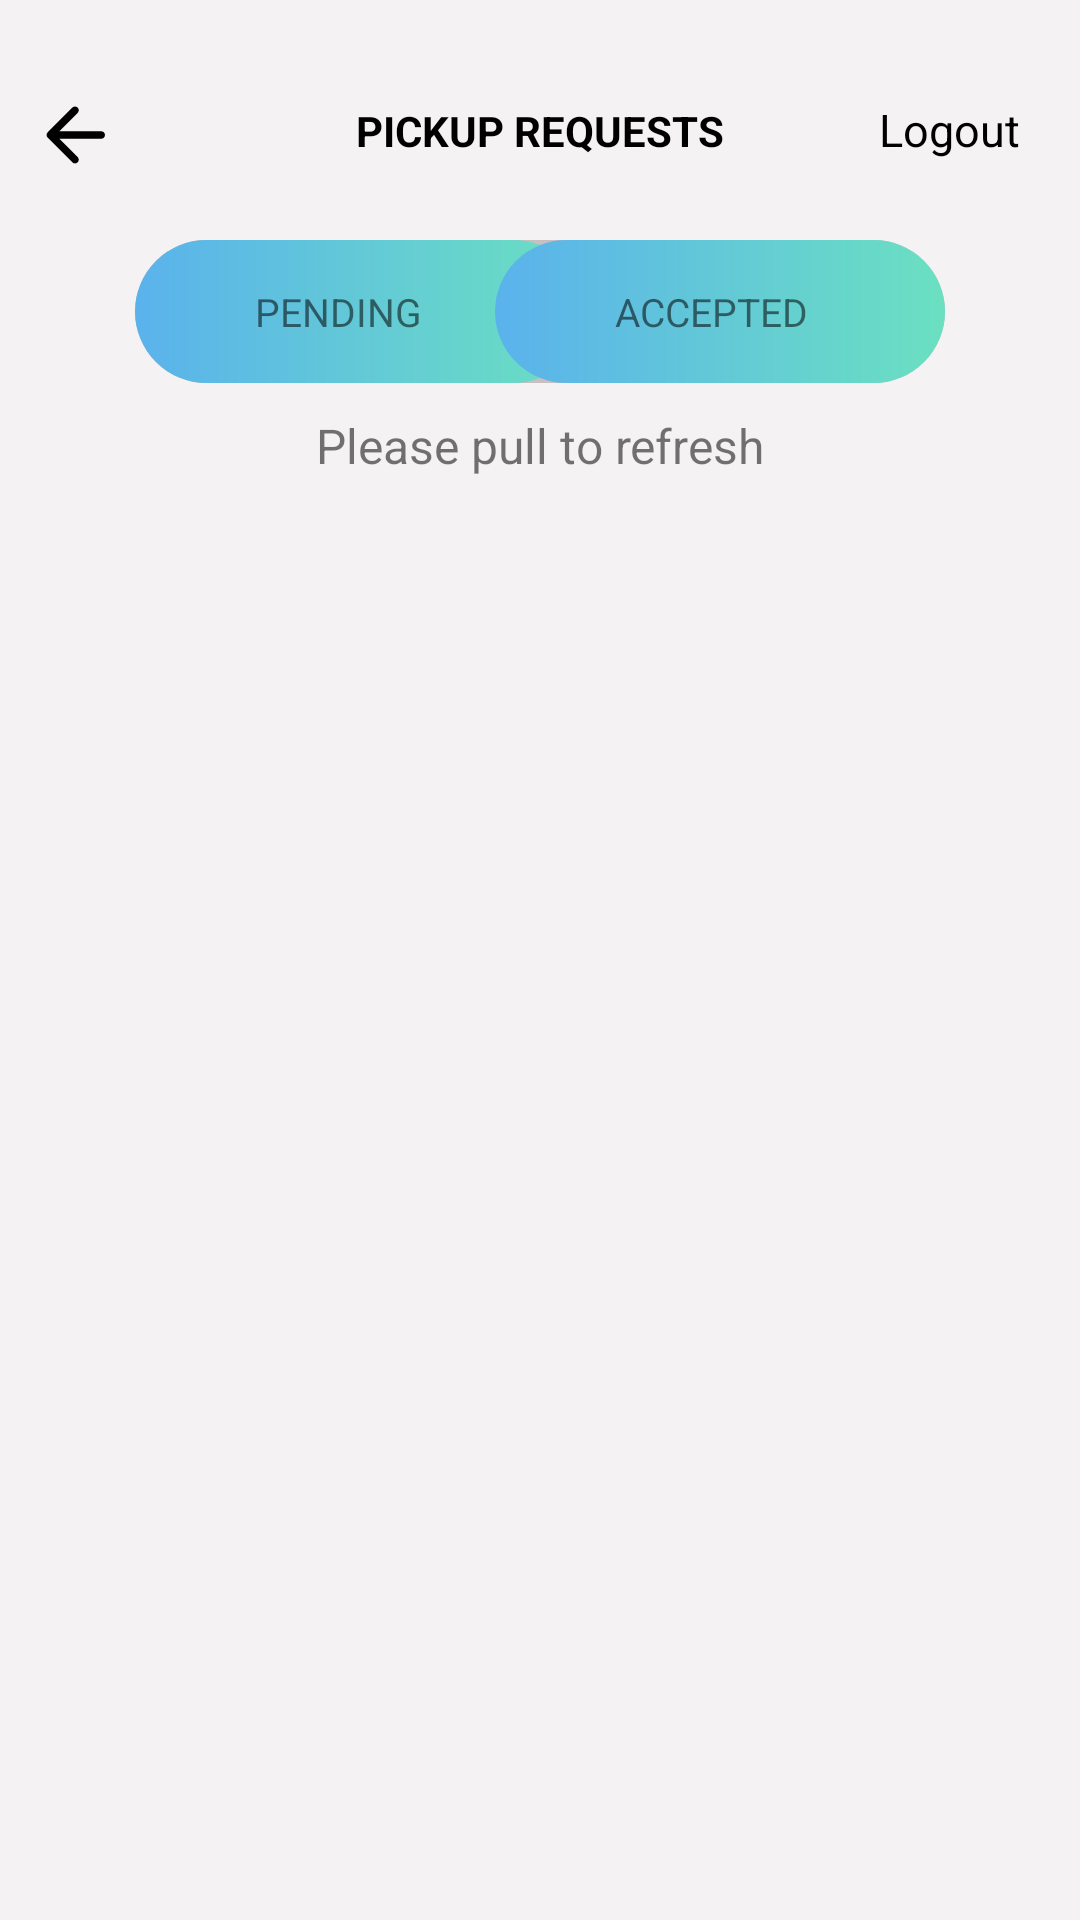

Icons on this 1080w x 1920h Android screen, each with its box as (x1, y1, x2, y2):
arrow back: (46, 106, 105, 164)
